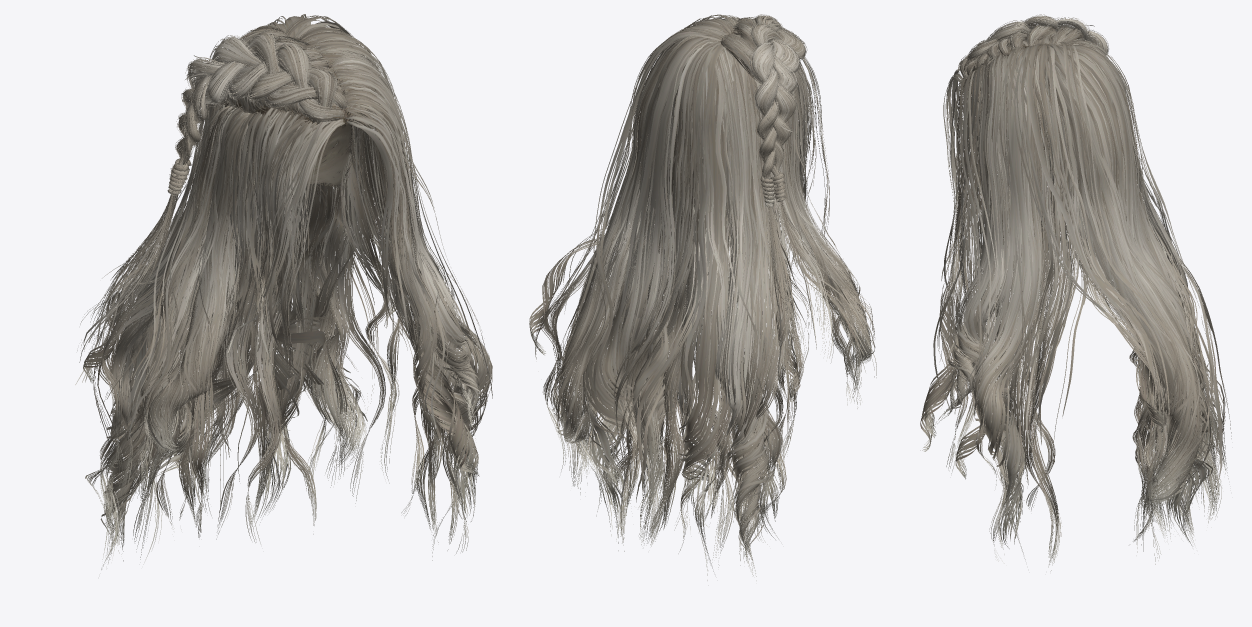
File: dint_hair_20.glb
The picture shows the model from 3 angles, left to right: view 1: azimuth 30°, elevation 25°; view 2: azimuth 150°, elevation 25°; view 3: azimuth 270°, elevation 25°; orthographic projection. The views are drawn at different scales.
Visible parts, largest first — view 1: 1base_1base, 1spring2_1spring2, 1light1_1light1, 1spring1_1spring1, 1br2_1br2, 1br1_1br1, 1light3_1light3, 1light2_1light2, Hl_Hl, 1br3_1br3; view 2: 1spring2_1spring2, 1spring1_1spring1, 1base_1base, 1light2_1light2, 1br2_1br2, 1br1_1br1, 1light1_1light1, 1br3_1br3, 1light3_1light3; view 3: 1spring2_1spring2, 1spring1_1spring1, 1base_1base, 1light3_1light3, 1light2_1light2, 1br1_1br1, 1br2_1br2, 1light1_1light1, 1br3_1br3.
Boxes of the visible parts, bbox=[...] form: 1base_1base: bbox=[83, 35, 479, 564]; 1spring2_1spring2: bbox=[101, 24, 492, 569]; 1light1_1light1: bbox=[100, 77, 344, 440]; 1spring1_1spring1: bbox=[100, 16, 492, 544]; 1br2_1br2: bbox=[75, 31, 346, 384]; 1br1_1br1: bbox=[167, 30, 346, 195]; 1light3_1light3: bbox=[304, 31, 492, 428]; 1light2_1light2: bbox=[93, 14, 407, 509]; Hl_Hl: bbox=[219, 38, 369, 198]; 1br3_1br3: bbox=[205, 26, 347, 108]; 1spring2_1spring2: bbox=[558, 16, 871, 580]; 1spring1_1spring1: bbox=[548, 15, 875, 553]; 1base_1base: bbox=[529, 21, 861, 585]; 1light2_1light2: bbox=[533, 17, 795, 530]; 1br2_1br2: bbox=[728, 14, 833, 404]; 1br1_1br1: bbox=[721, 16, 805, 207]; 1light1_1light1: bbox=[736, 56, 876, 377]; 1br3_1br3: bbox=[720, 17, 776, 84]; 1light3_1light3: bbox=[563, 14, 737, 318]; 1spring2_1spring2: bbox=[935, 40, 1228, 548]; 1spring1_1spring1: bbox=[945, 38, 1225, 521]; 1base_1base: bbox=[920, 41, 1221, 571]; 1light3_1light3: bbox=[933, 45, 1087, 481]; 1light2_1light2: bbox=[1014, 33, 1231, 519]; 1br1_1br1: bbox=[959, 16, 1107, 80]; 1br2_1br2: bbox=[958, 14, 1143, 201]; 1light1_1light1: bbox=[941, 69, 1071, 280]; 1br3_1br3: bbox=[963, 25, 1084, 73].
Size of the model in its own units: 0.4964 by 0.7011 by 0.3766.
10 materials, 10 textured.
